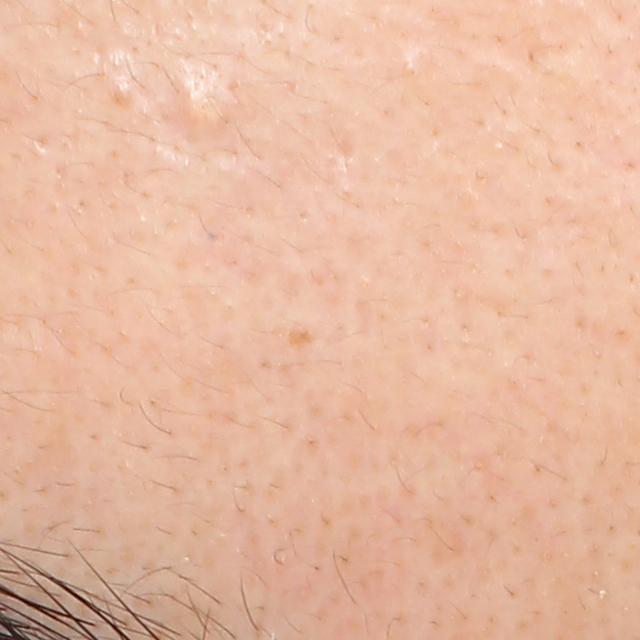comedo: (176, 72, 229, 138), (392, 47, 434, 87), (109, 80, 135, 110)
